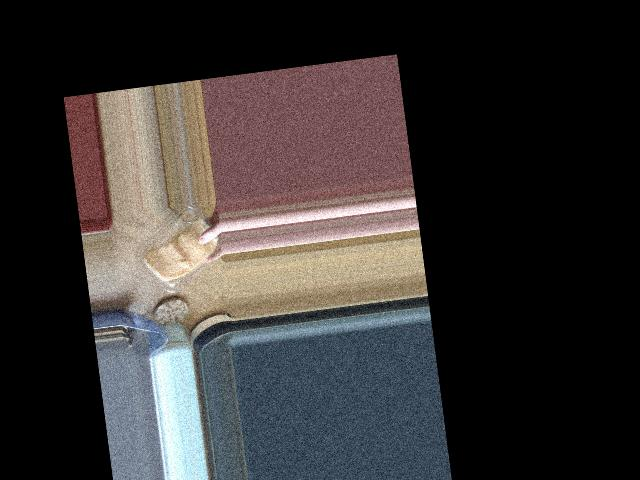cheese: (121, 204, 222, 305)
